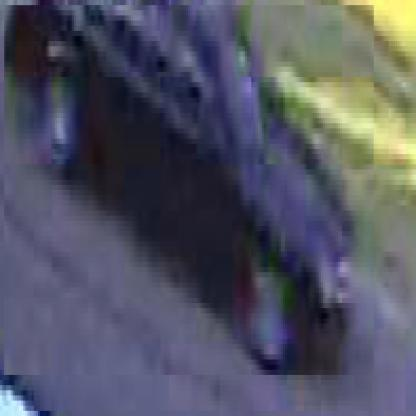car: (5, 6, 377, 381)
